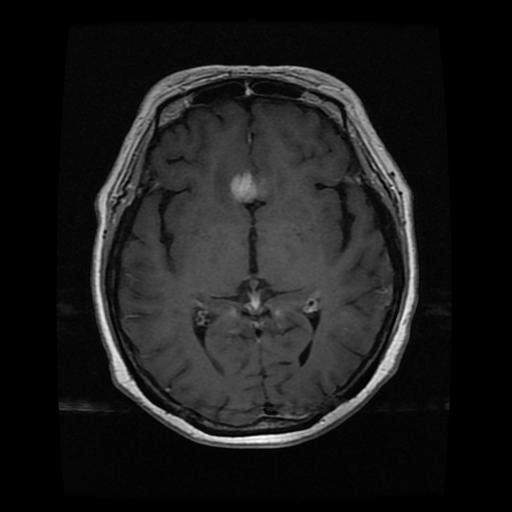Tumour-Meningioma: (216, 170, 287, 215)
